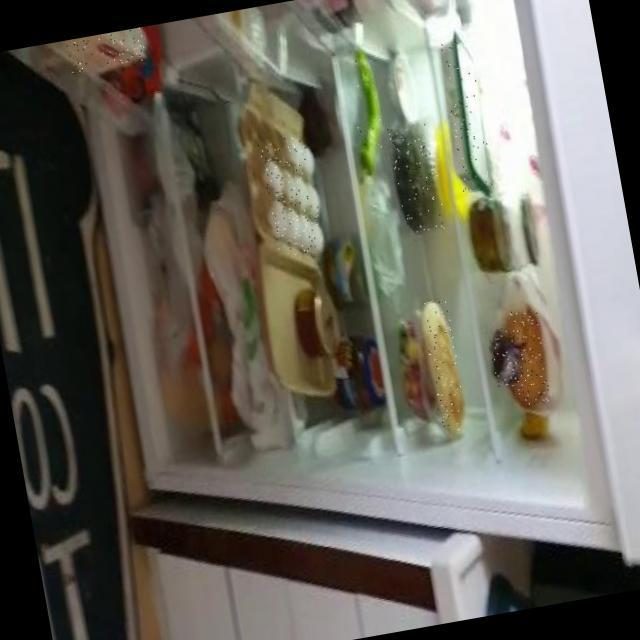Cebolla: (487, 332, 526, 387)
Huevos: (257, 134, 324, 257)
bread: (418, 299, 468, 433), (496, 308, 551, 408)
cream: (436, 38, 494, 196)
green chilies: (344, 53, 388, 175)
milk: (65, 27, 146, 73)
olives: (385, 119, 445, 235)
